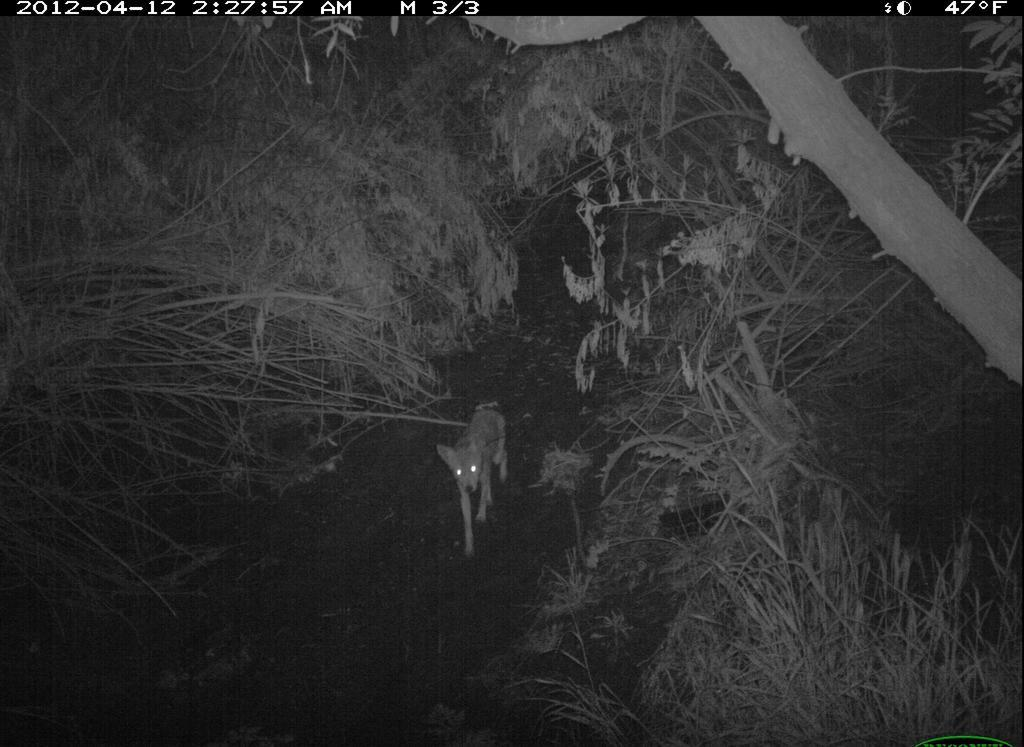coyote: (427, 395, 516, 562)
